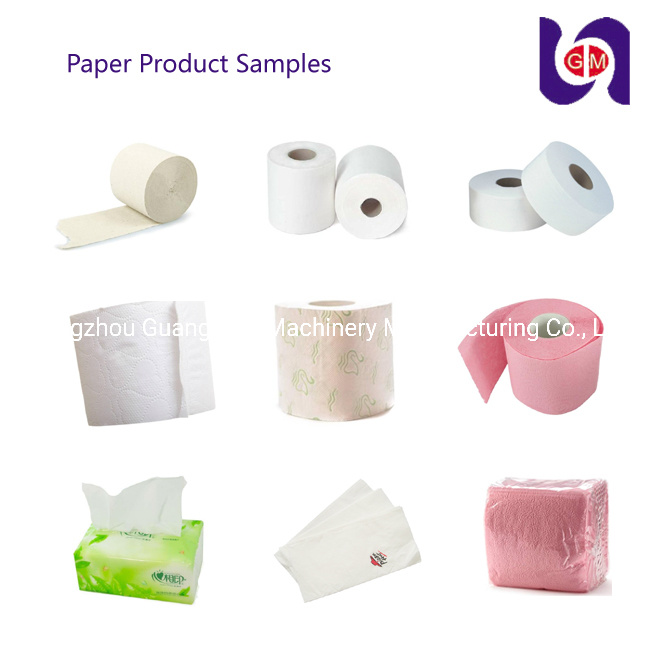Tissue: (272, 477, 425, 604), (67, 475, 212, 606), (51, 135, 202, 252), (262, 137, 409, 244), (465, 138, 615, 240)
